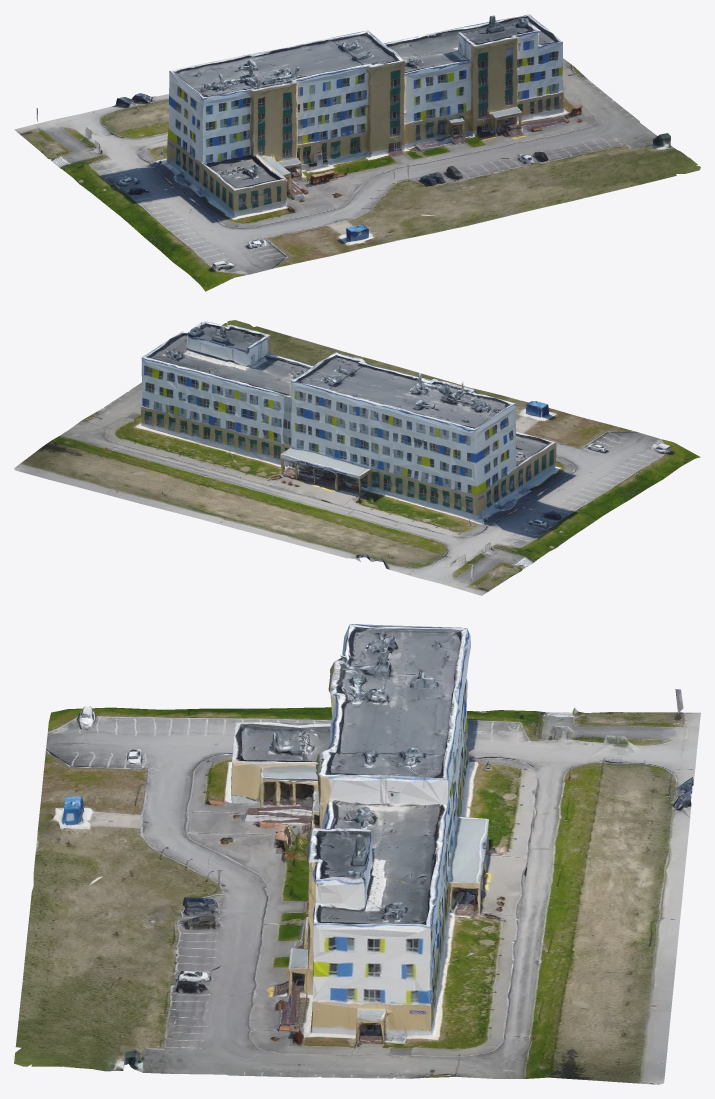
The model's file is hosp-l1.glb.
3 renders of one model, top to bottom at view 1: azimuth 30°, elevation 25°; view 2: azimuth 150°, elevation 25°; view 3: azimuth 270°, elevation 25°, orthographic. The views are drawn at different scales.
Parts seen in each view (by area): view 1: Model_material0_0; view 2: Model_material0_0; view 3: Model_material0_0.
Boxes of the visible parts, x1,y1,x2,y2 form: Model_material0_0: (14, 14, 700, 291); Model_material0_0: (14, 320, 700, 595); Model_material0_0: (14, 624, 700, 1084).
Bounding box in the file's own units: 19.84 × 4.24 × 14.97.
1 material, 1 textured.
